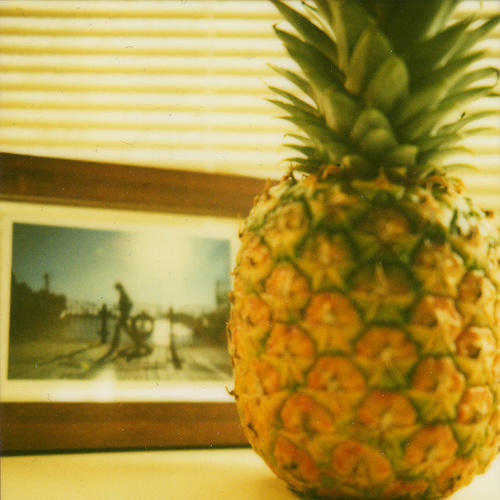pineapple: (226, 0, 498, 498)
